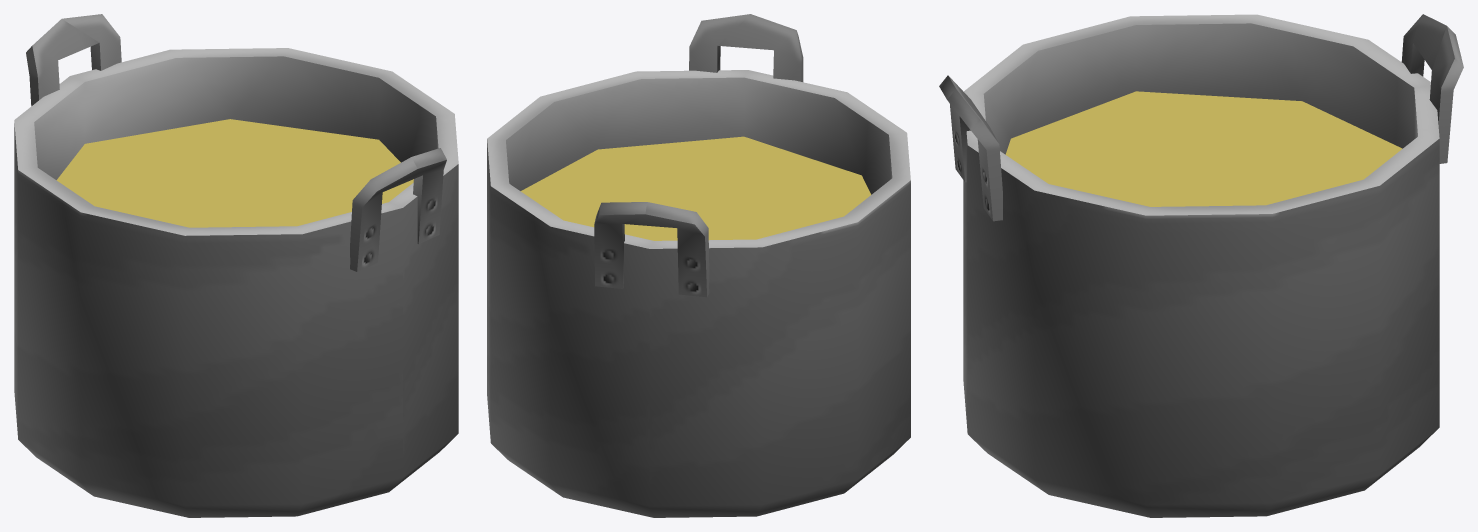
File: Fishbroth.FBX
3 renders of one model, left to right at view 1: azimuth 30°, elevation 25°; view 2: azimuth 150°, elevation 25°; view 3: azimuth 270°, elevation 25°, orthographic. The views are drawn at different scales.
Visible parts, largest first — view 1: CookingPotFull; view 2: CookingPotFull; view 3: CookingPotFull.
Boxes of the visible parts, bbox=[...] form: CookingPotFull: bbox=[14, 14, 458, 517]; CookingPotFull: bbox=[487, 14, 910, 517]; CookingPotFull: bbox=[939, 14, 1463, 517].
Bounding box in the file's own units: 54.92 × 46.92 × 60.54.
